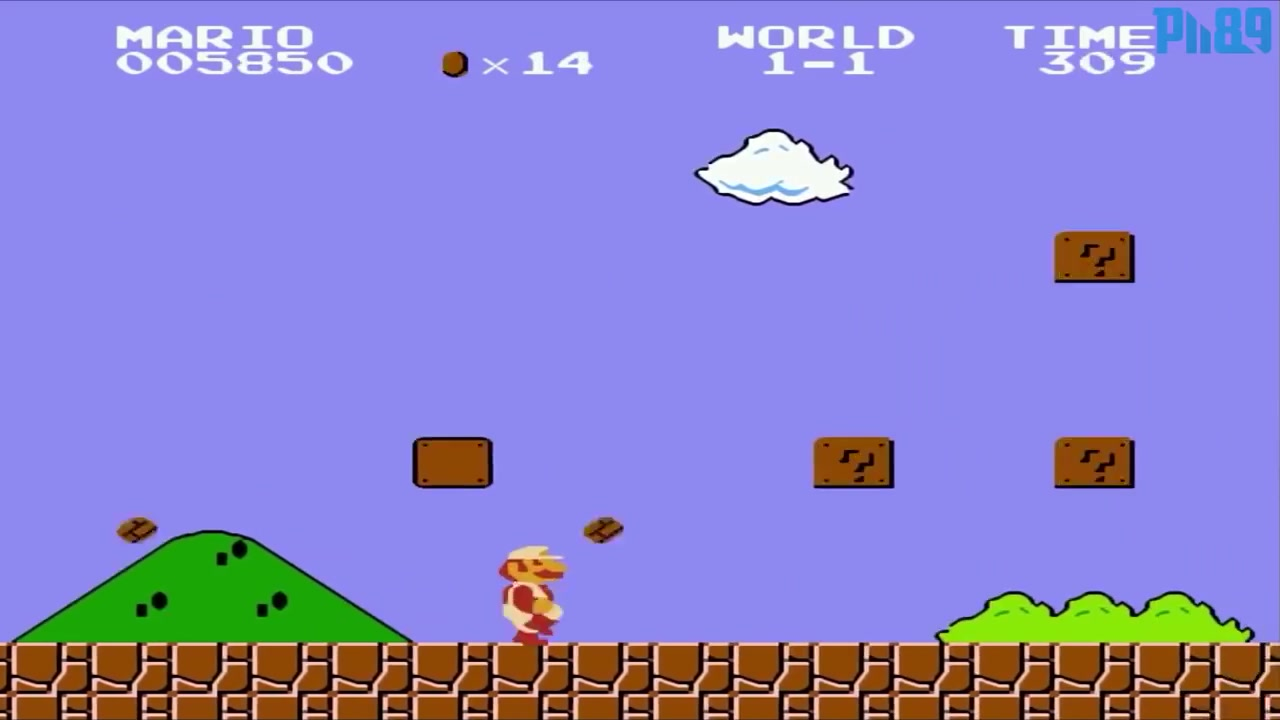mario: (488, 536, 574, 655)
